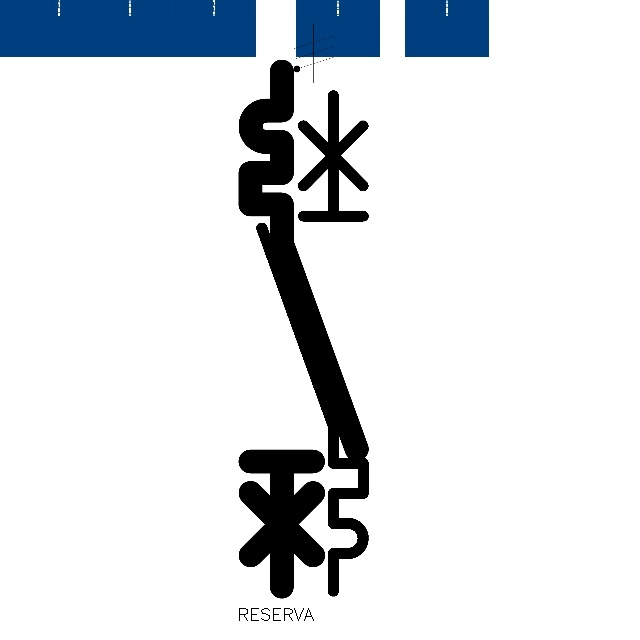interruptor_termomagnetico: (237, 58, 369, 600), (249, 82, 376, 603)
